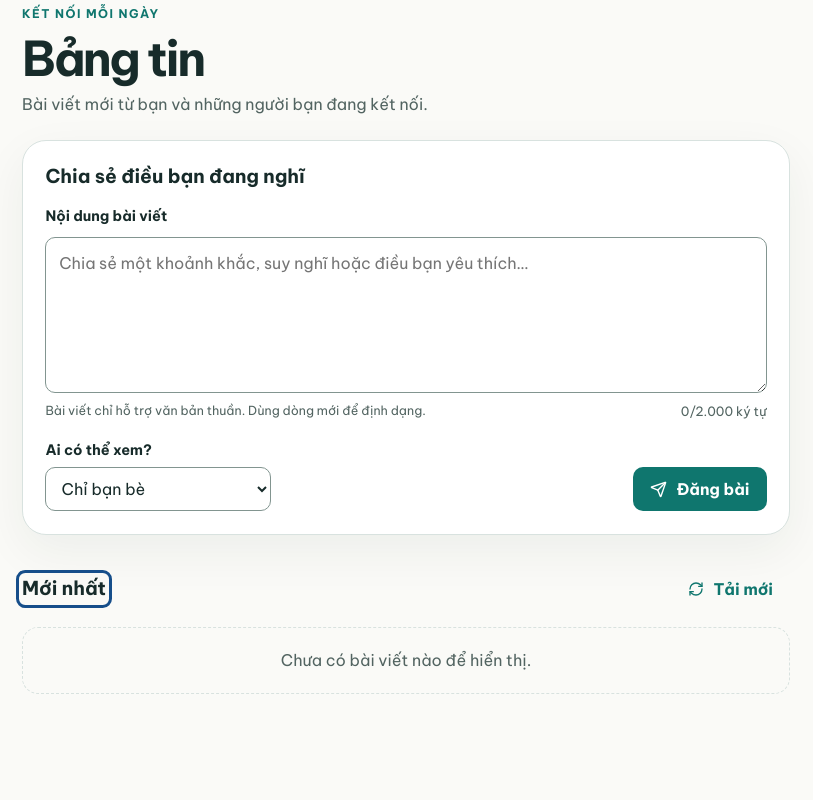
Test case: FeedPage uncertain create reconciliation › waits for its own refresh when an older Feed request is aborted (success)
expect the text "Chưa có bài viết nào để hiển thị." is shown: met, box [22, 627, 790, 694]
Click the button "Tải mới".
click(730, 589)  # box [671, 567, 790, 611]
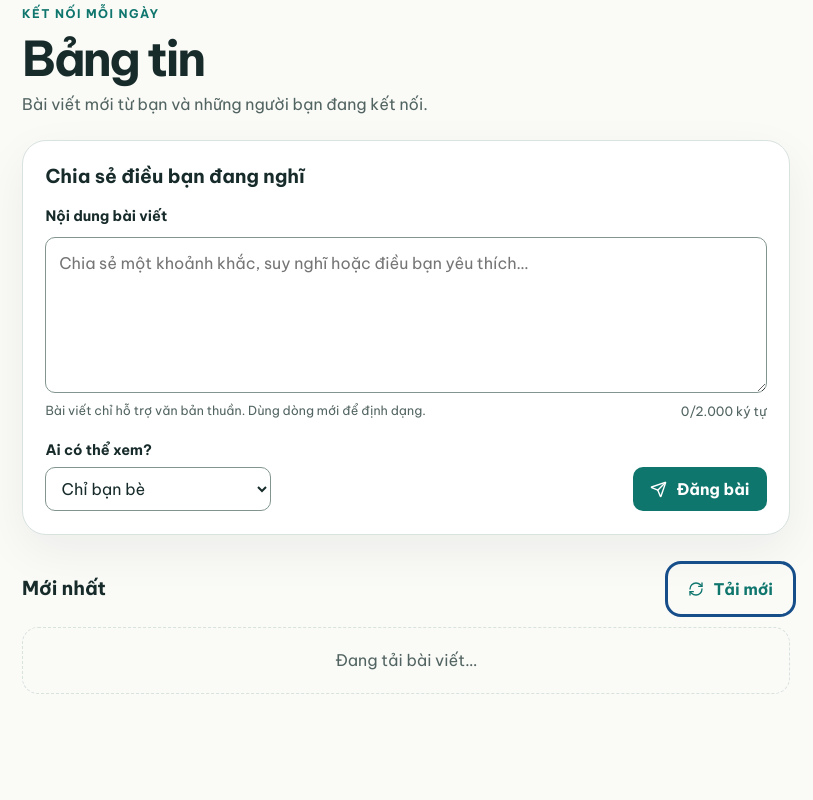
Type "Keep this draft" into the text box labelled "Nội dung bài viết".
click(406, 315); type("Keep this draft")  # box [45, 237, 767, 393]
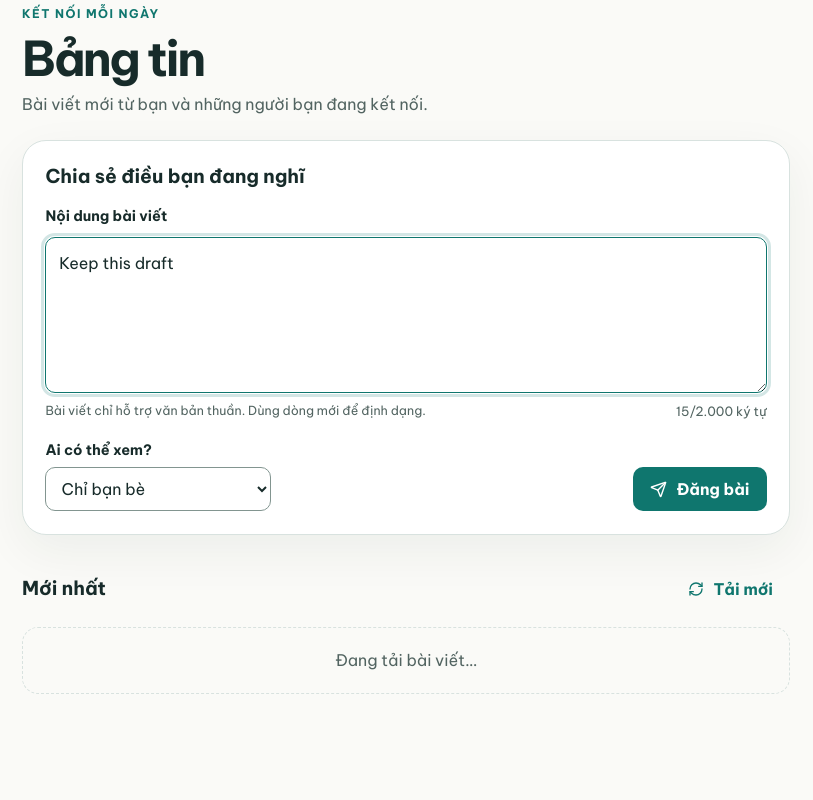
Click the button "Đăng bài".
click(700, 489)  # box [633, 467, 767, 511]
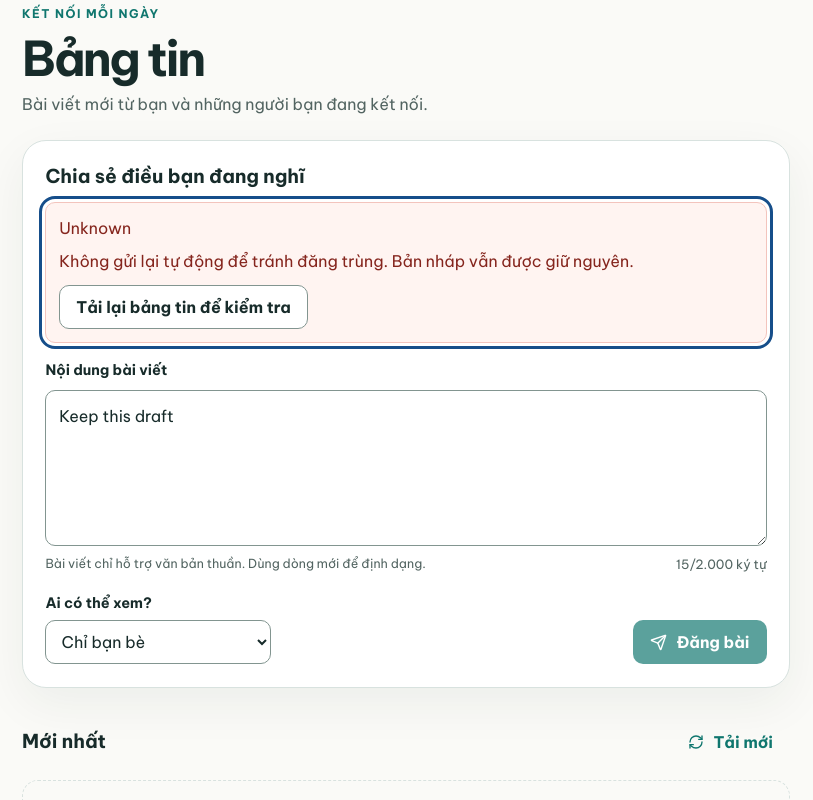
Click the button "Tải lại bảng tin để kiểm tra".
click(183, 307)  # box [59, 285, 308, 329]
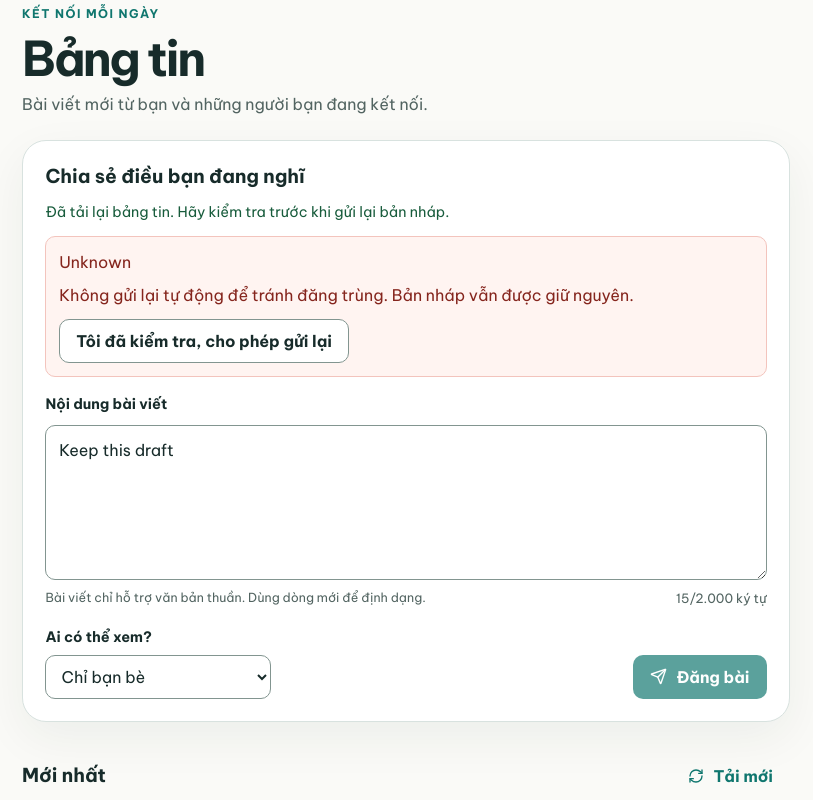
expect the button "Tôi đã kiểm tra, cho phép gửi lại" is enabled: met, box [59, 319, 349, 363]
expect the text "Đã tải lại bảng tin. Hãy kiểm tra trước khi gửi lại bản nháp." is shown: met, box [45, 203, 449, 221]
